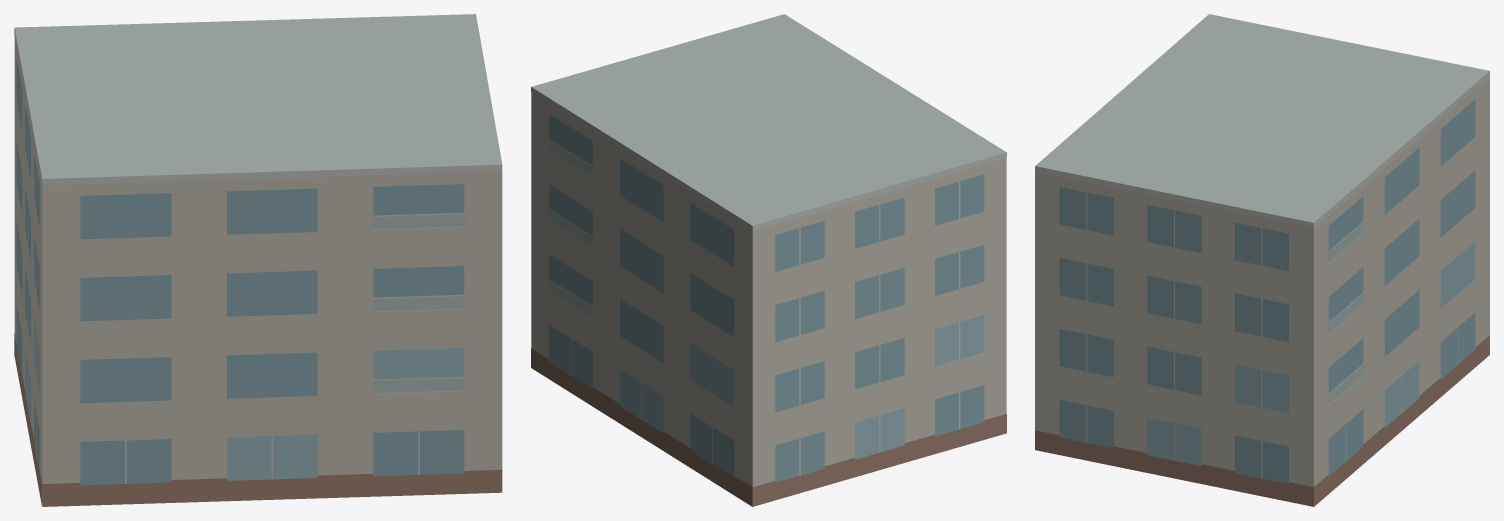
The model's file is survey-upis-32484847.glb.
3 renders of one model, left to right at view 1: azimuth 30°, elevation 25°; view 2: azimuth 150°, elevation 25°; view 3: azimuth 270°, elevation 25°, orthographic. The views are drawn at different scales.
Parts seen in each view (by area): view 1: survey-upis-32484847.tmp; view 2: survey-upis-32484847.tmp; view 3: survey-upis-32484847.tmp.
Part boxes in pixels (left/top/right/bottom): survey-upis-32484847.tmp: left=14, top=14, right=502, bottom=506; survey-upis-32484847.tmp: left=531, top=14, right=1006, bottom=506; survey-upis-32484847.tmp: left=1035, top=14, right=1489, bottom=506.
Bounding box in the file's own units: 19.25 × 12.2 × 17.71.
